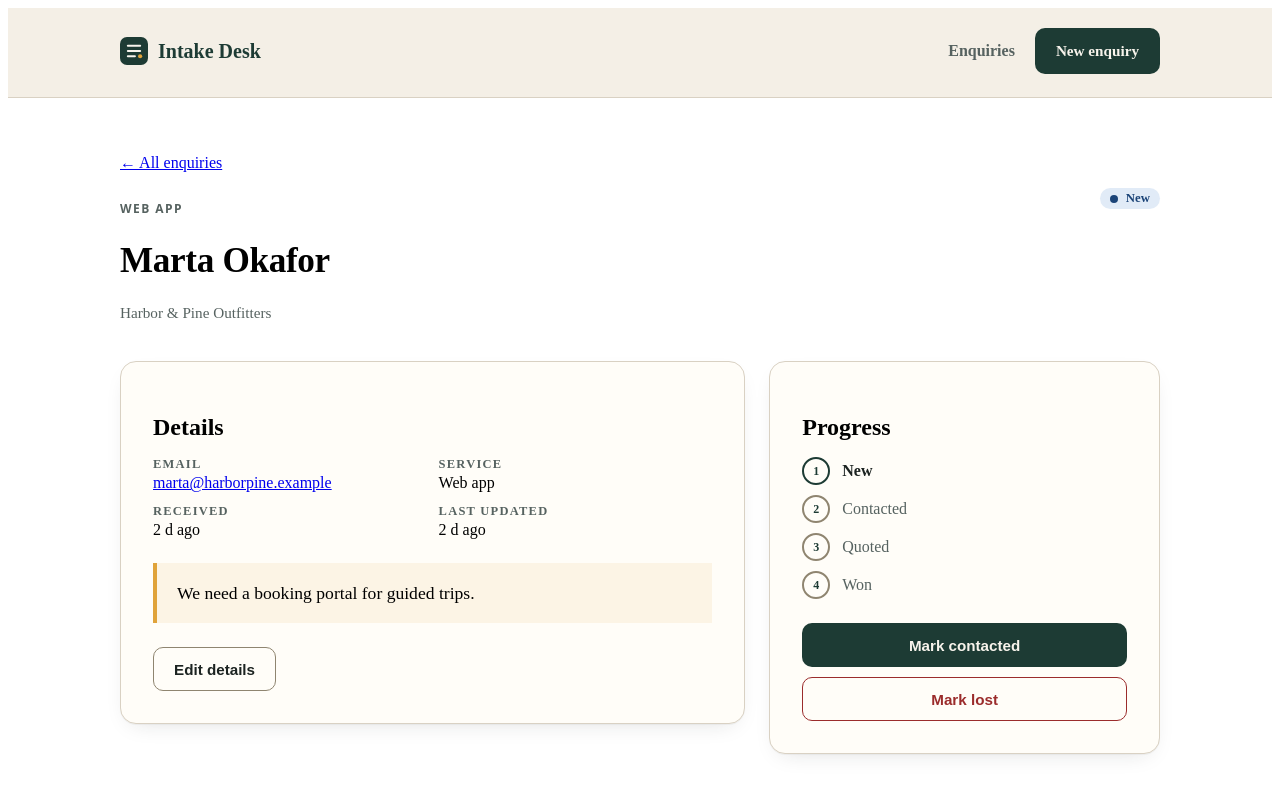
Test: enquiry detail › saves an edit and returns to the details with a confirmation
Click the button "Edit details" at (214, 669), box [153,647,276,691]
(page scrolled)
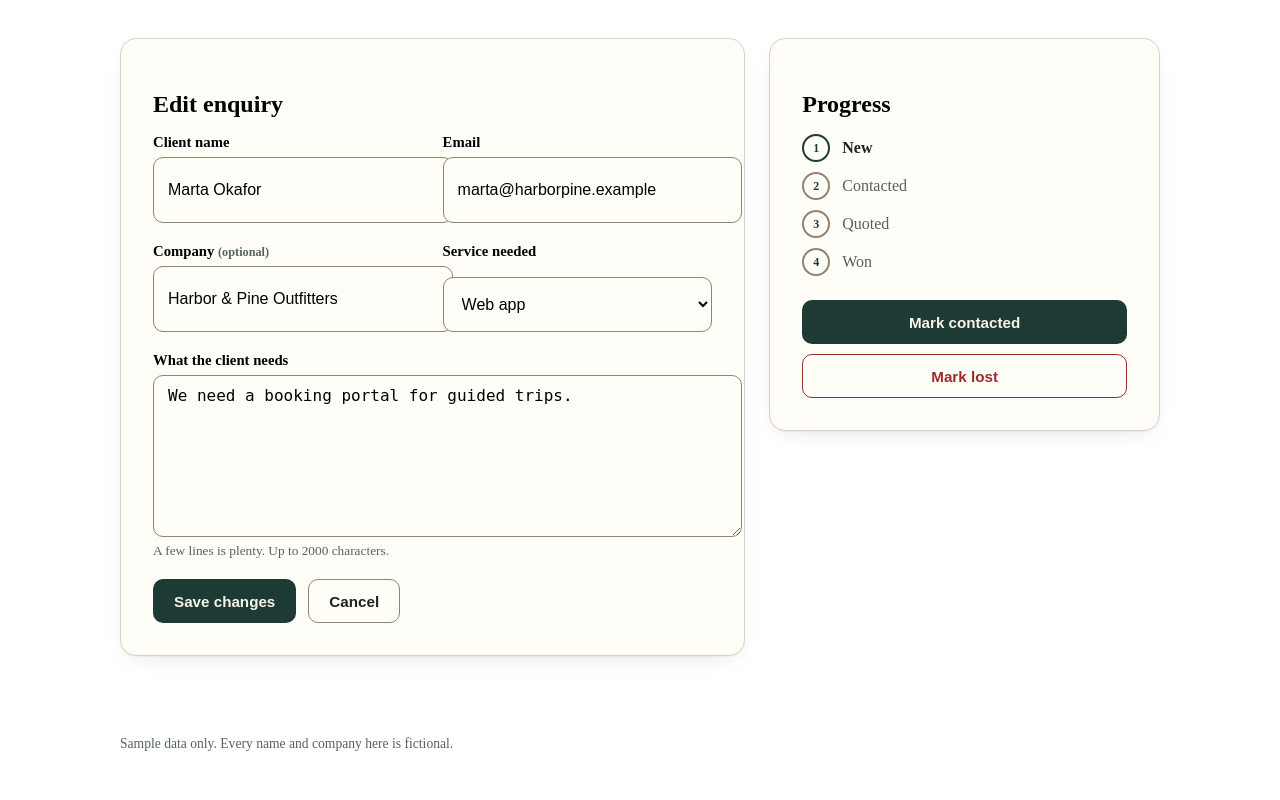
Click the button "Save changes" at (225, 601), box [153,579,296,623]
(page scrolled)
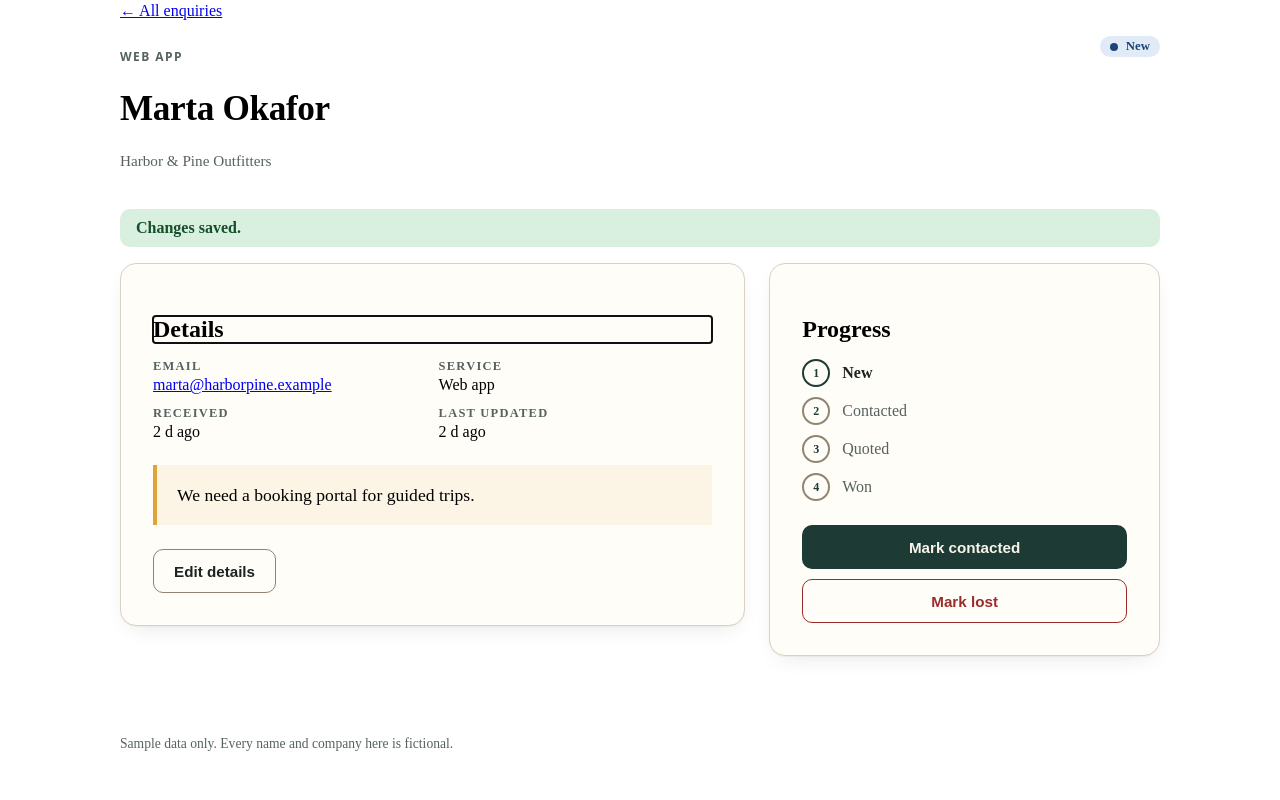
expect the text "Changes saved." is shown: met, box [120,209,1160,247]
expect the button "Edit details" is shown: met, box [153,549,276,593]
